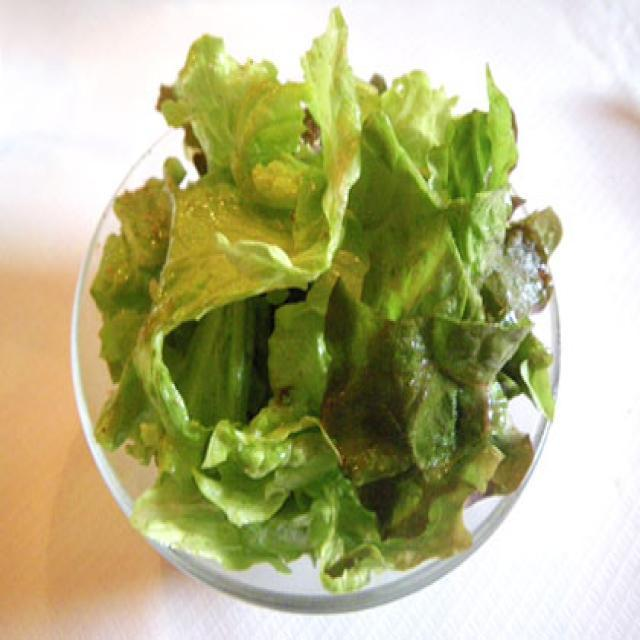Green Salad: (81, 38, 552, 590)
